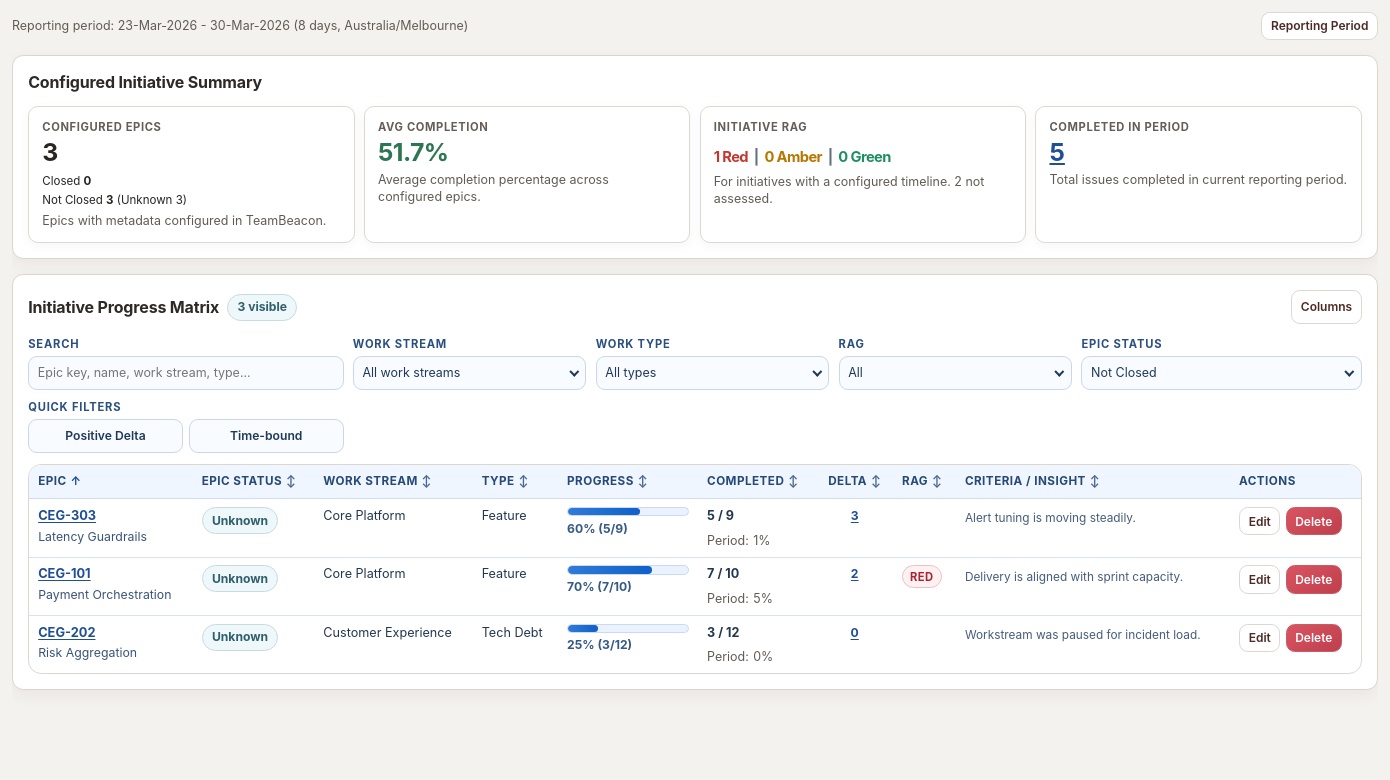
Scenario: InitiativesScreen › filters initiative matrix with quick filter toggles
The width and height of the screenshot is (1390, 780).
Expected: the link "CEG-101" is shown, [38,566,91,581]
Expected: the element "Initiative Progress Matrix" is shown, [28,294,297,321]
Click the button "Positive Delta".
click(106, 436)  # box [28,419,183,453]
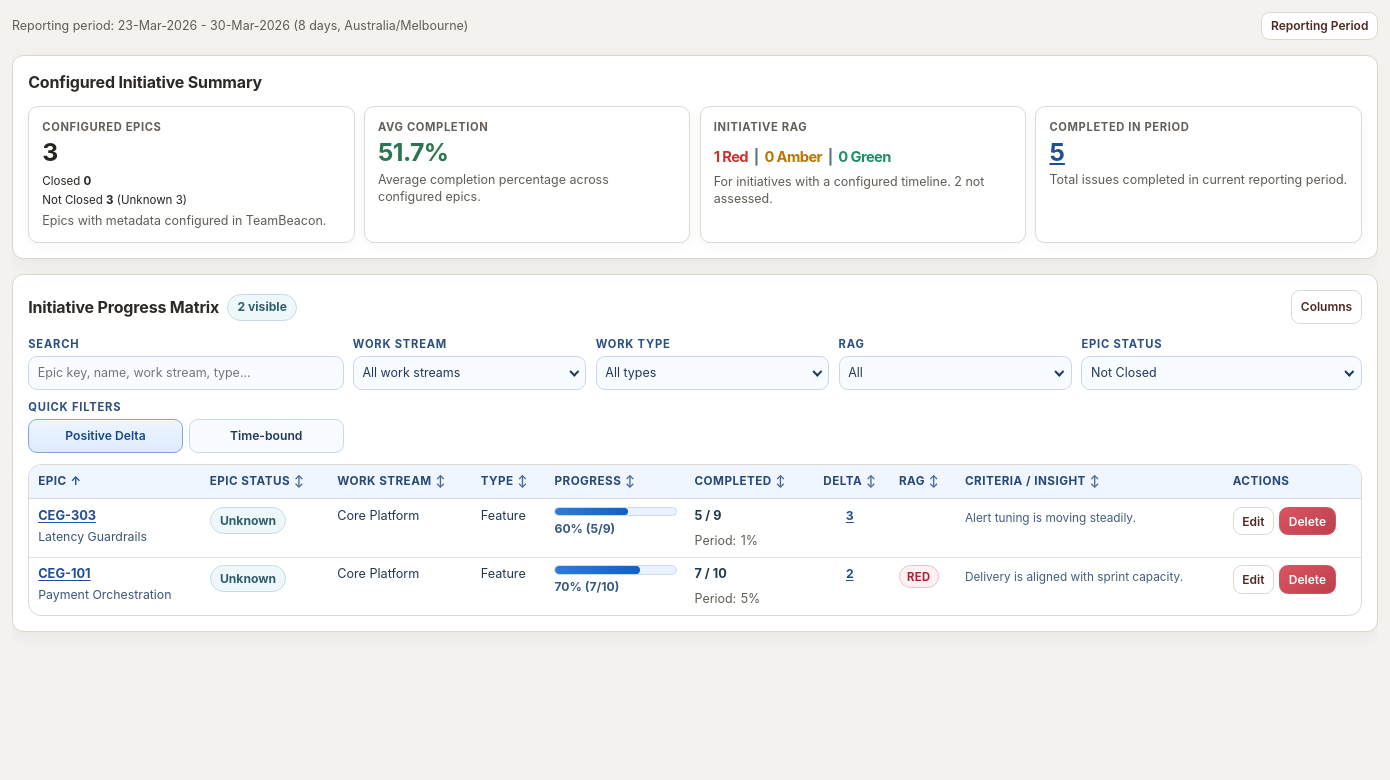
Now the text "2 visible" is shown, box [227,294,297,321]
Click the button "Time-bound".
click(266, 436)  # box [189,419,344,453]
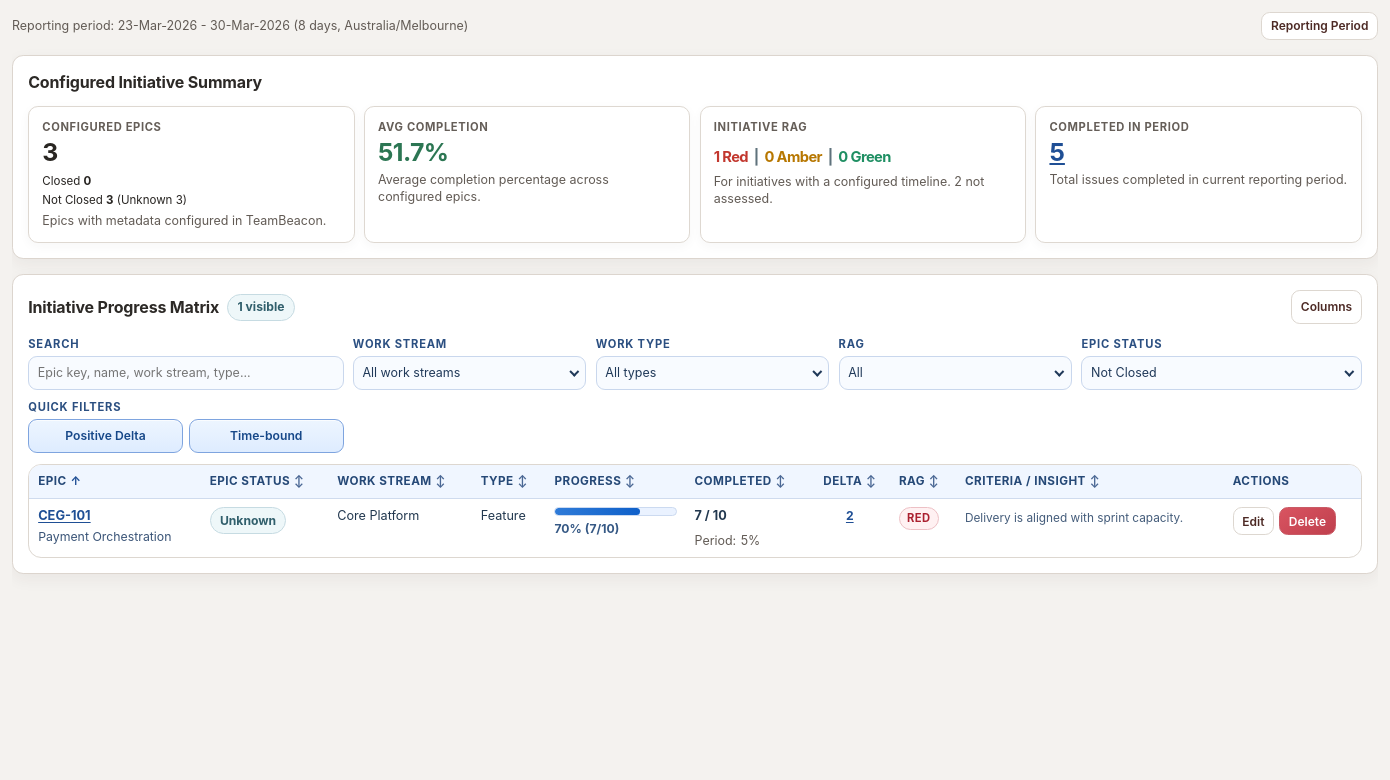
Now the text "1 visible" is shown, box [227,294,295,321]
Click the button "Positive Delta".
click(106, 436)  # box [28,419,183,453]
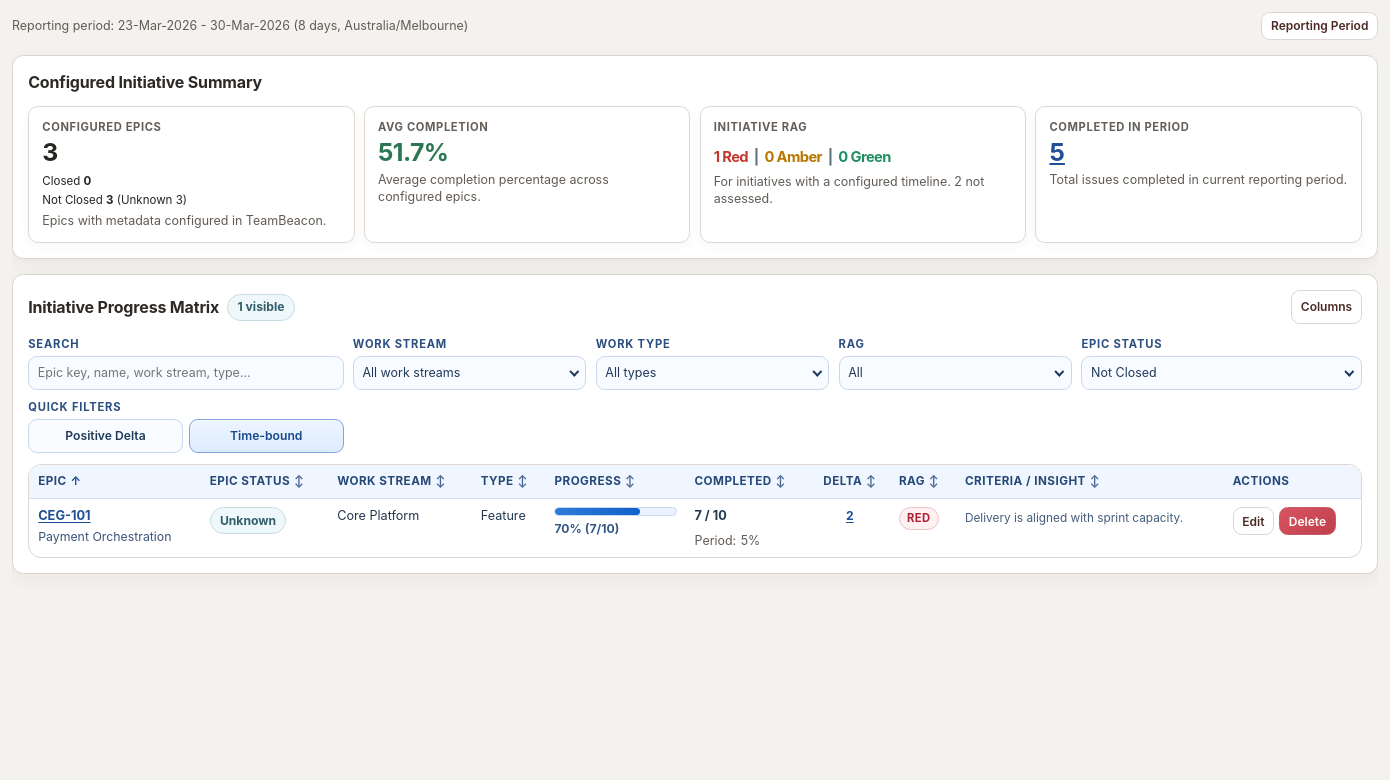
Now the button "Positive Delta" is not pressed, box [28,419,183,453]
Click the button "Time-bound".
click(266, 436)  # box [189,419,344,453]
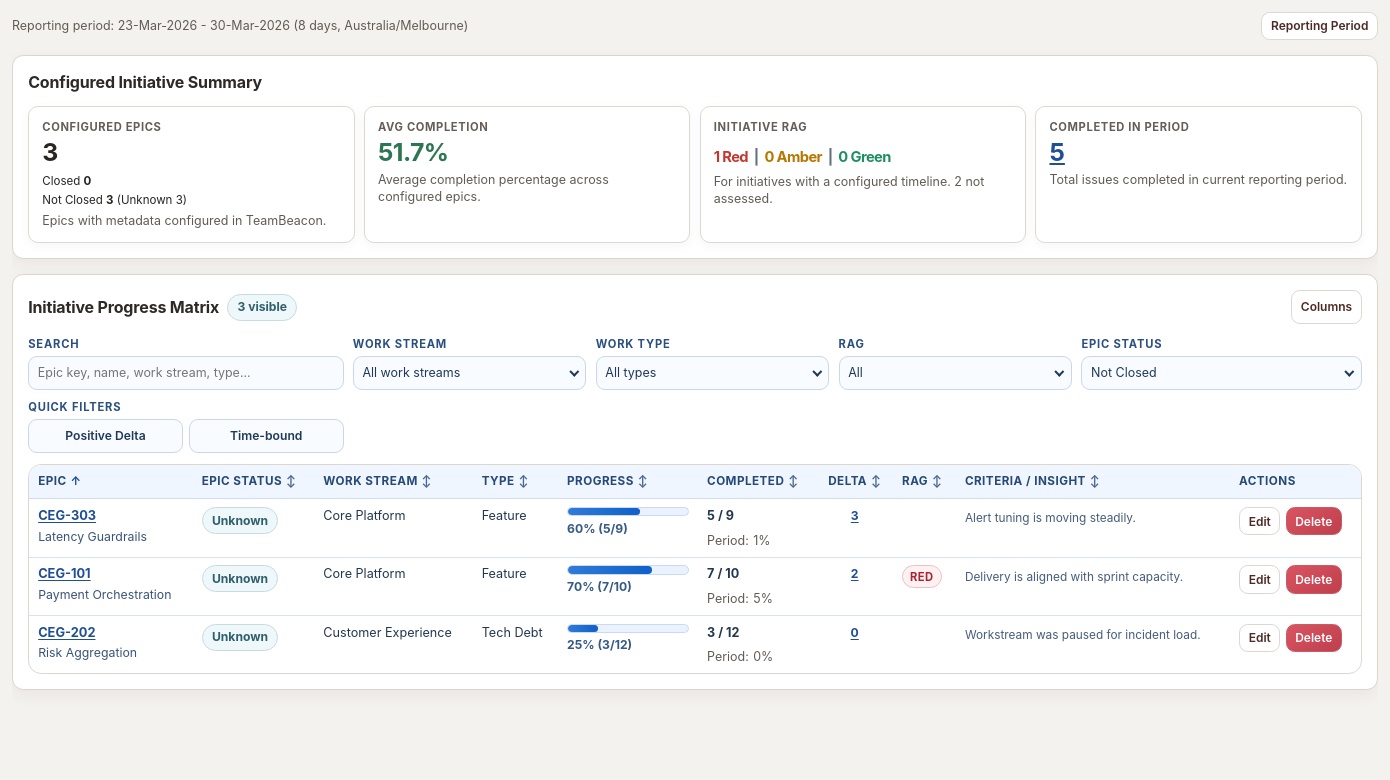
Now the text "3 visible" is shown, box [227,294,297,321]
